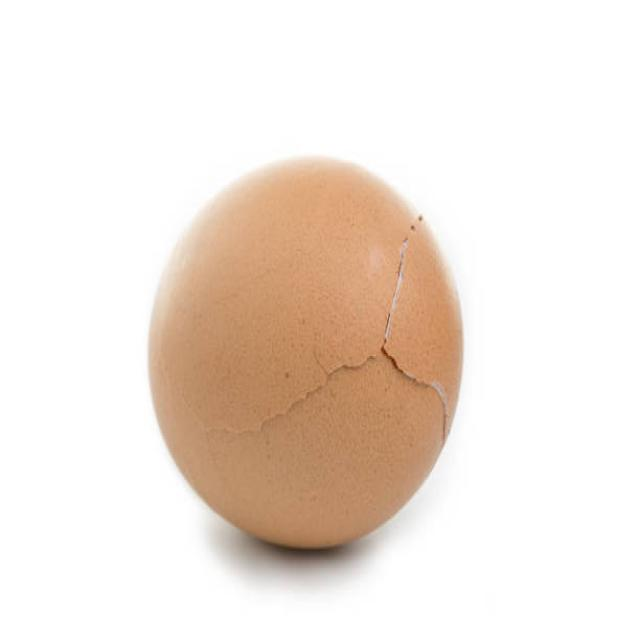Crack: (250, 171, 461, 474)
Egg: (139, 142, 485, 560)
